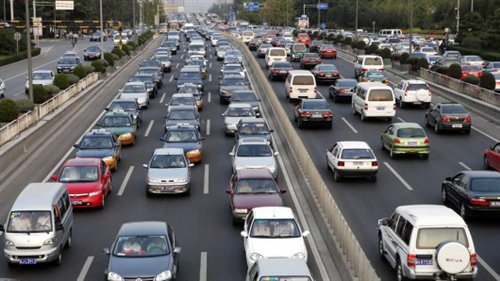bus: (293, 14, 309, 31)
car: (101, 221, 182, 281), (225, 168, 287, 223), (141, 146, 201, 194)
suv: (375, 204, 477, 281), (393, 80, 431, 106)
truck: (1, 180, 73, 268), (352, 81, 396, 121), (284, 69, 316, 102), (352, 54, 384, 80)
